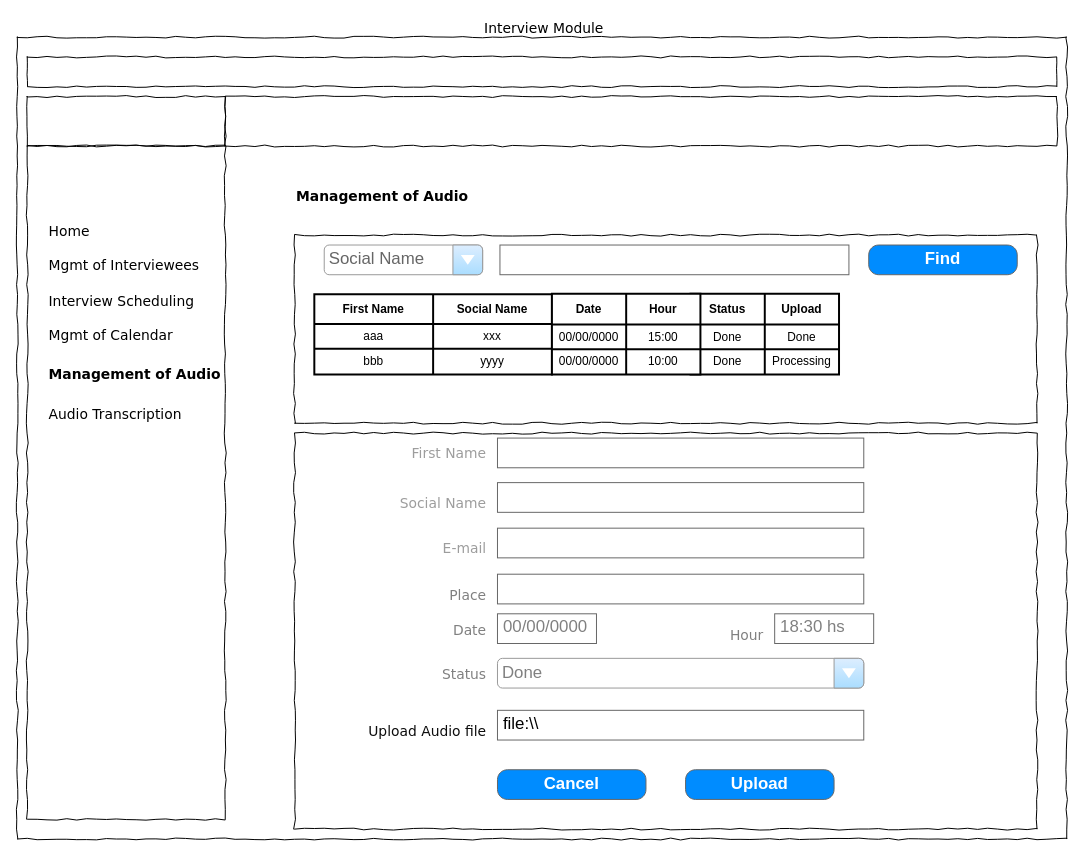
Some shapes in this 1084 by 856 pixel diagram are drawn without their labels. Each missing label, with the centre of its shape:
"About" goes at pixel 640 121.
"HTTPS://localhost" goes at pixel 541 71.
"IAT" goes at pixel 125 121.
